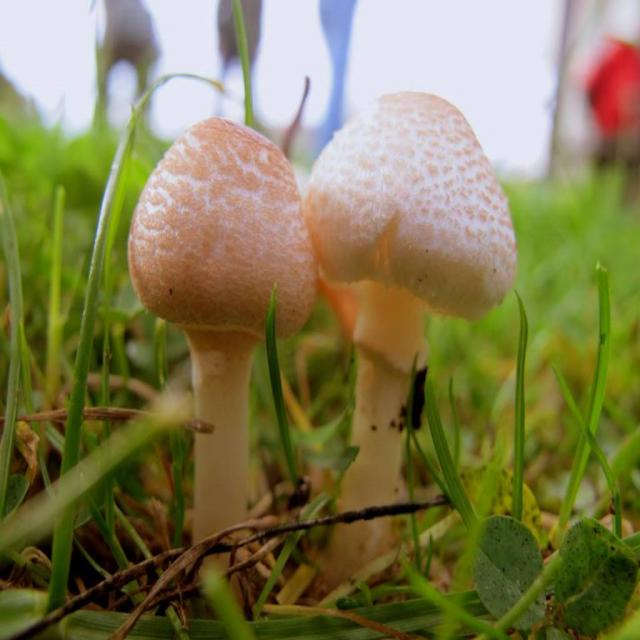Mushroom: (304, 91, 520, 591), (117, 132, 319, 550)
